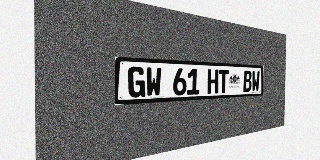1: (187, 68, 199, 95)
6: (173, 68, 187, 96)
B: (243, 70, 252, 92)
G: (128, 66, 145, 98)
H: (207, 69, 218, 94)
T: (218, 70, 229, 93)
W: (146, 67, 162, 97), (252, 71, 260, 92)
